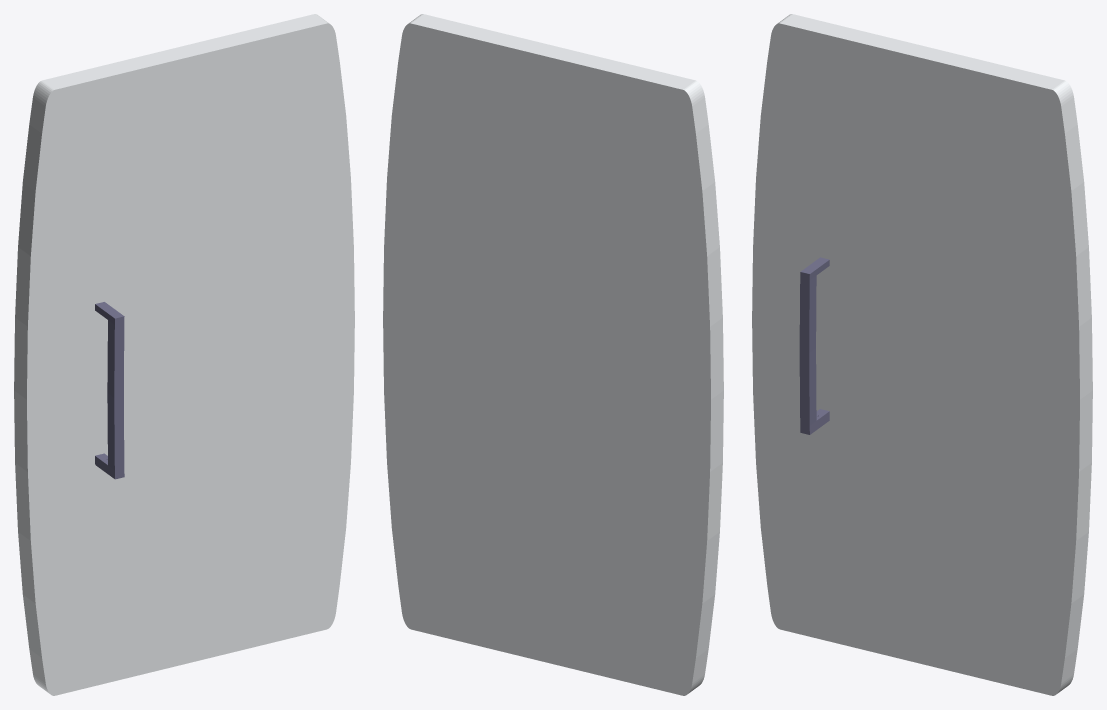
The model's file is RefriRockoPuerta.obj.
The picture shows the model from 3 angles, left to right: view 1: azimuth 30°, elevation 25°; view 2: azimuth 150°, elevation 25°; view 3: azimuth 330°, elevation 25°; orthographic projection.
Parts seen in each view (by area): view 1: RefriRockoPuerta:Mesh; view 2: RefriRockoPuerta:Mesh; view 3: RefriRockoPuerta:Mesh.
Boxes of the visible parts, x1,y1,x2,y2 form: RefriRockoPuerta:Mesh: (14,14,354,695); RefriRockoPuerta:Mesh: (383,14,723,695); RefriRockoPuerta:Mesh: (752,14,1092,695).
Size of the model in its own units: 2.17 by 3.83 by 0.3747.
1 material, 1 textured.
